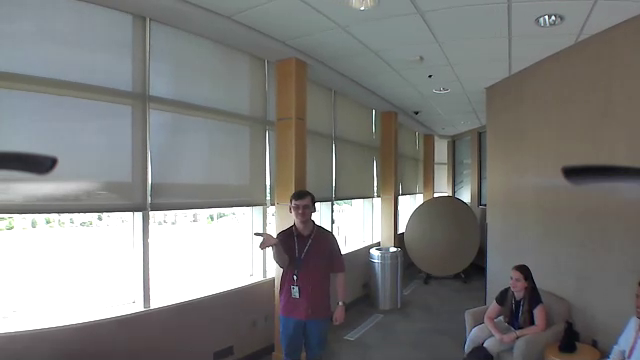land: (250, 229, 283, 254)
